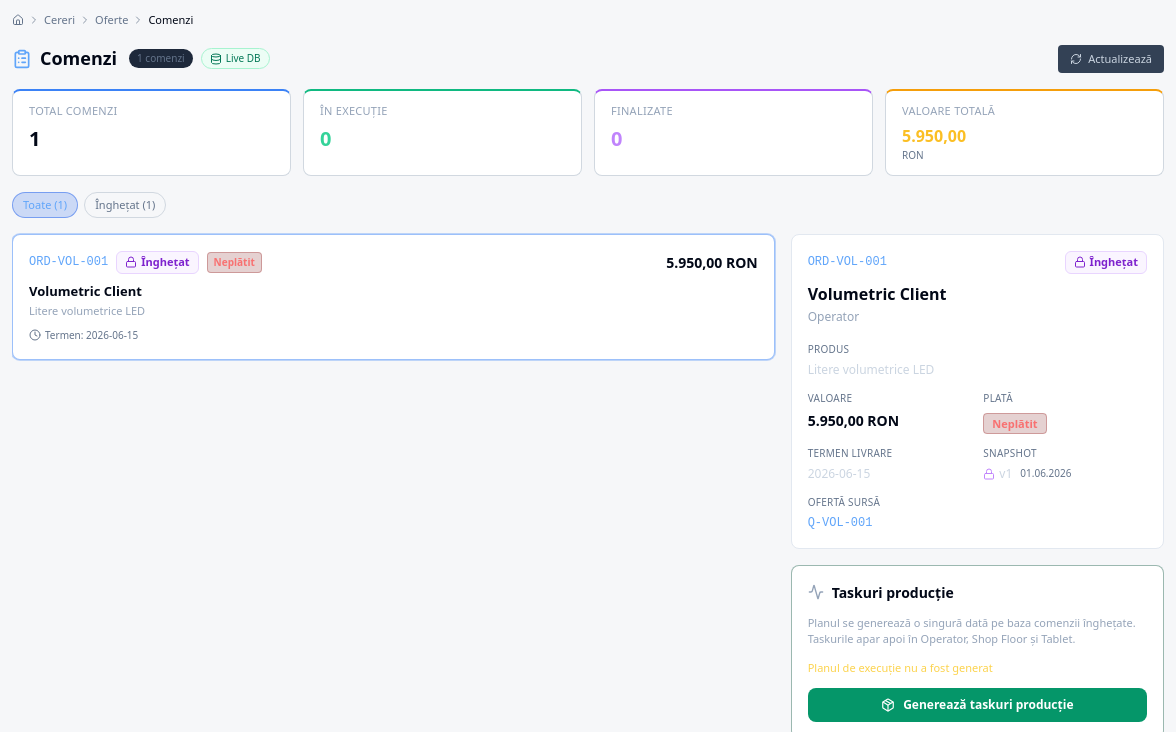
Test: Orders execution dispatch › generates plan and shows open execution CTA
Click the button with test id "order-generate-execution-plan-action". click: (977, 705)
box: [808,688,1147,722]
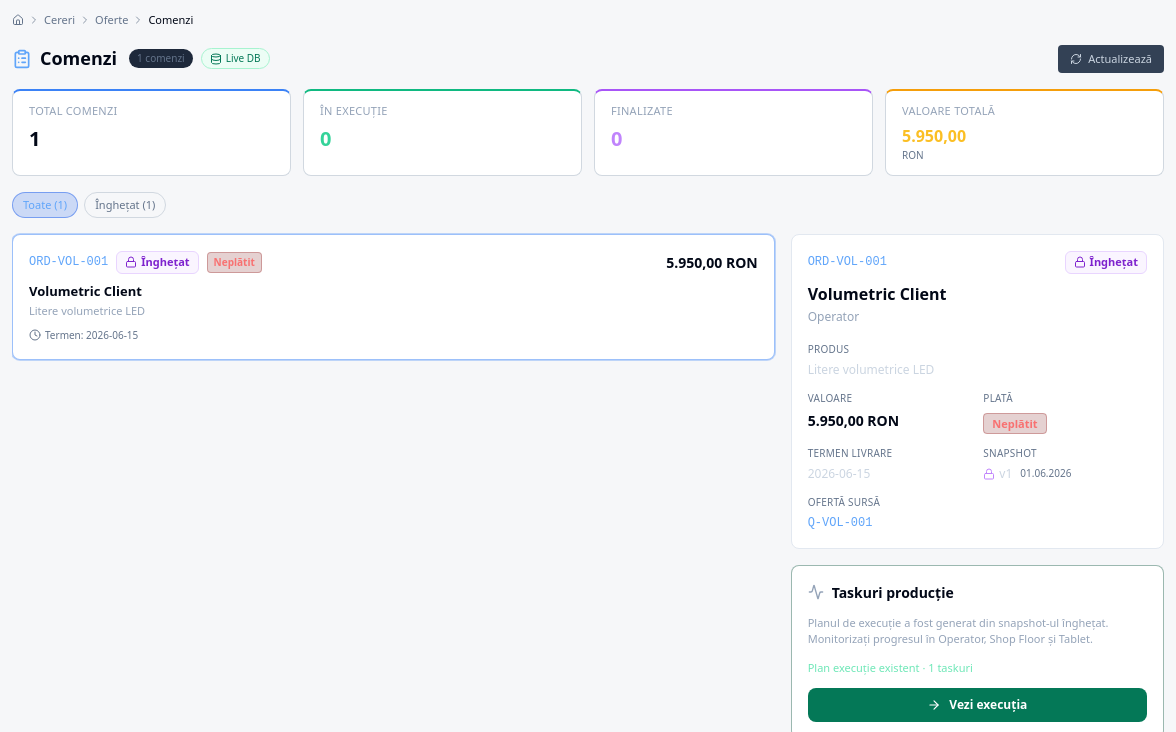
Now the button with test id "order-view-execution-cta" is shown, box [808,688,1147,722]
